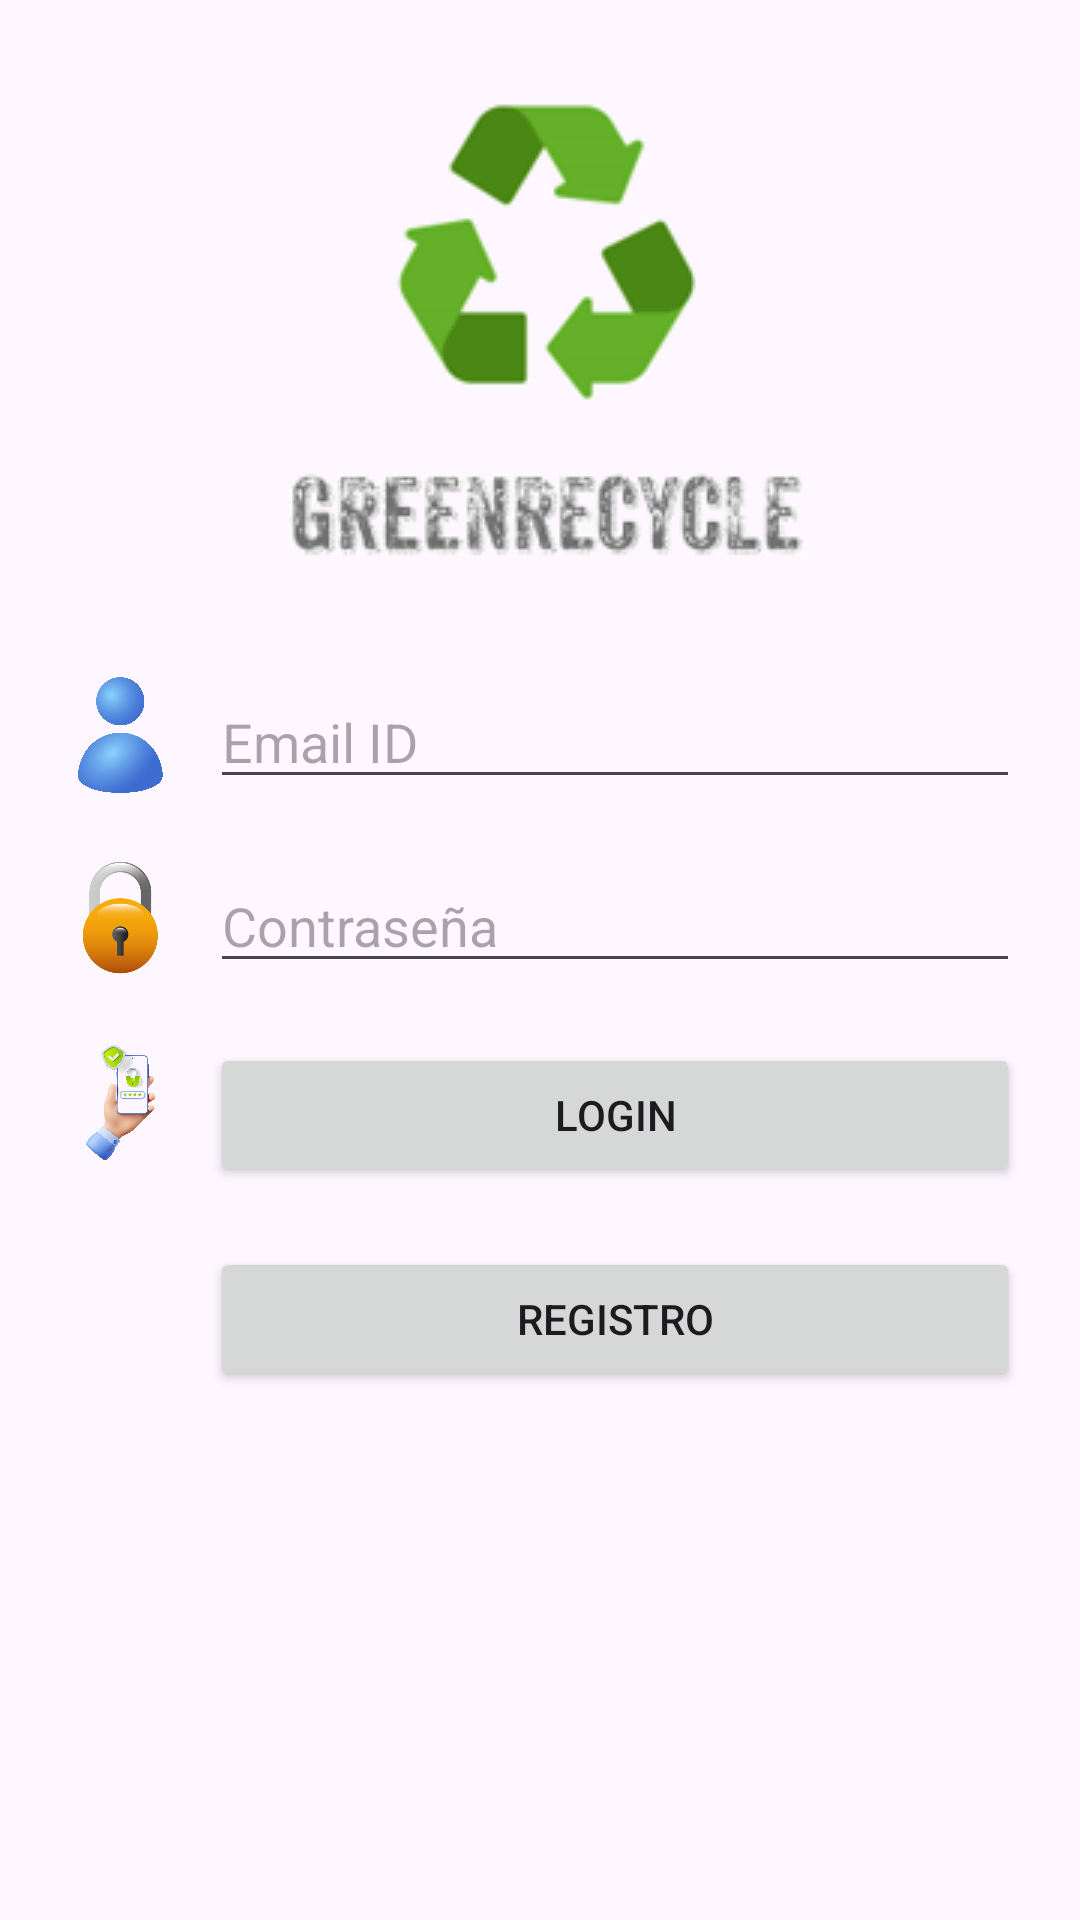

Icon bounding boxes for this 1080 x 1920 phone screenshot, format [x1, y1, x2, y2]:
password: [83, 862, 158, 974]
